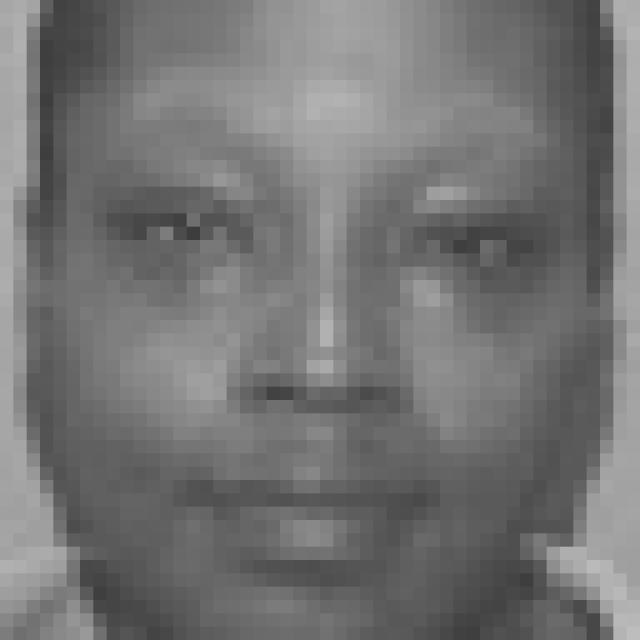neutral: (90, 128, 575, 588)
